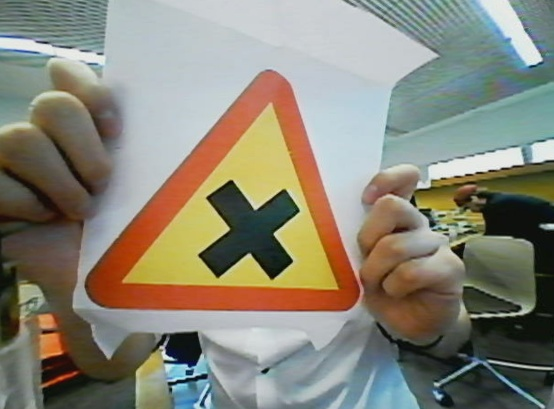junction: (97, 65, 370, 337)
